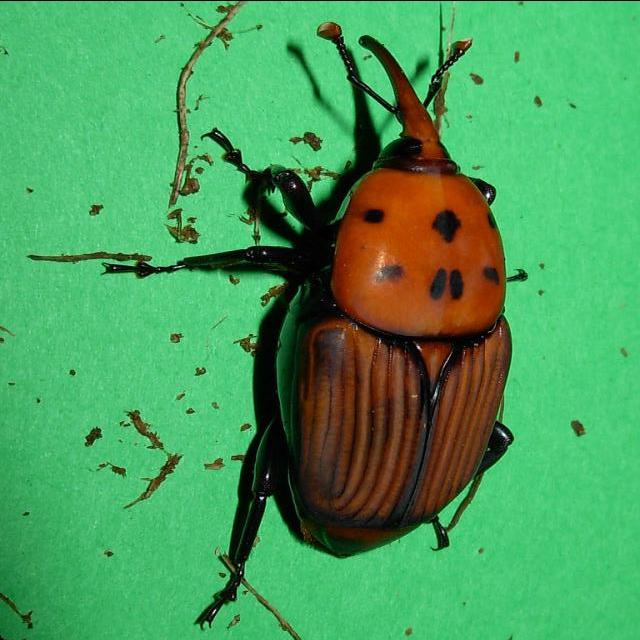Red-palm-weevil: (212, 19, 528, 563)
